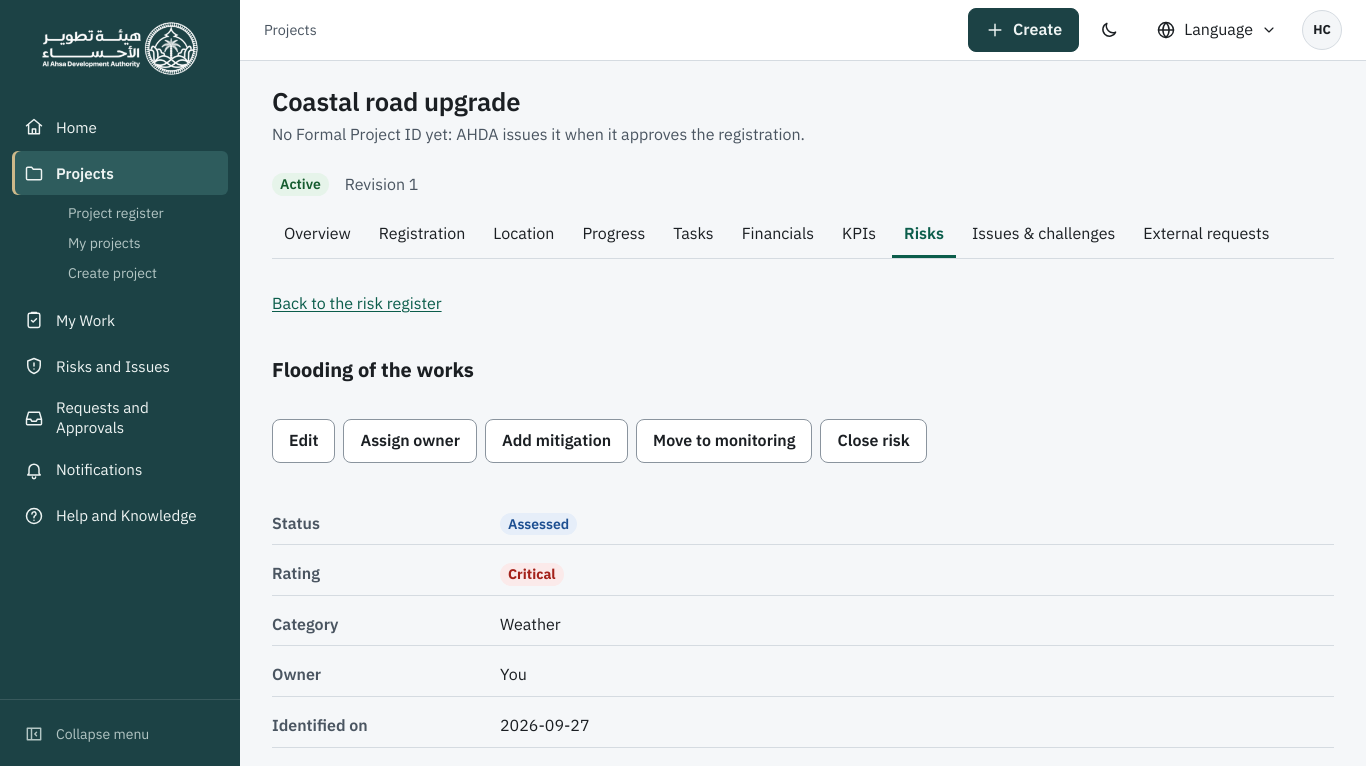
MOD-035 Close Risk (acceptance criterion 2) › a risk changed meanwhile (412) is read again, nothing saved
Click the button "Close risk" at (874, 441), box left=820, top=419, right=927, bottom=463
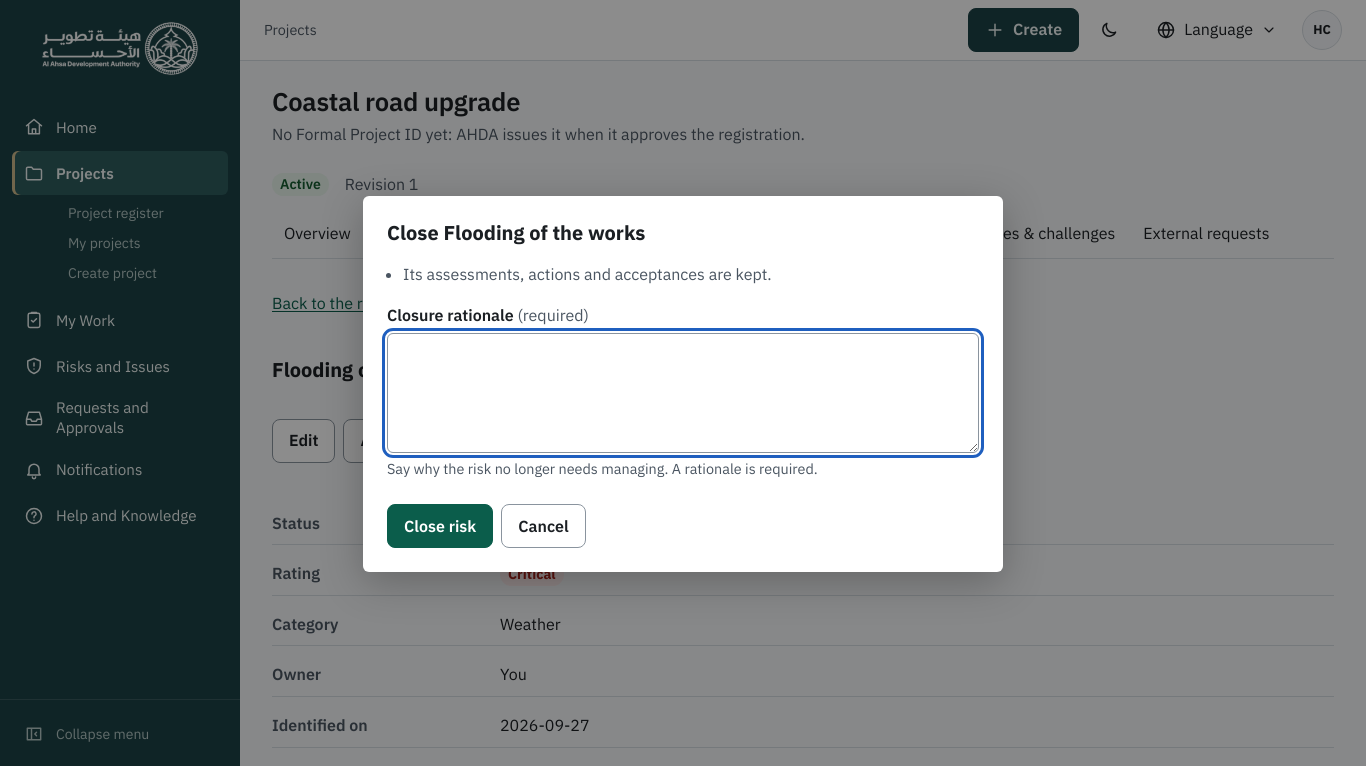
Type "Done" into the text box labelled "Closure rationale (required)" at (683, 393), box left=387, top=333, right=979, bottom=453
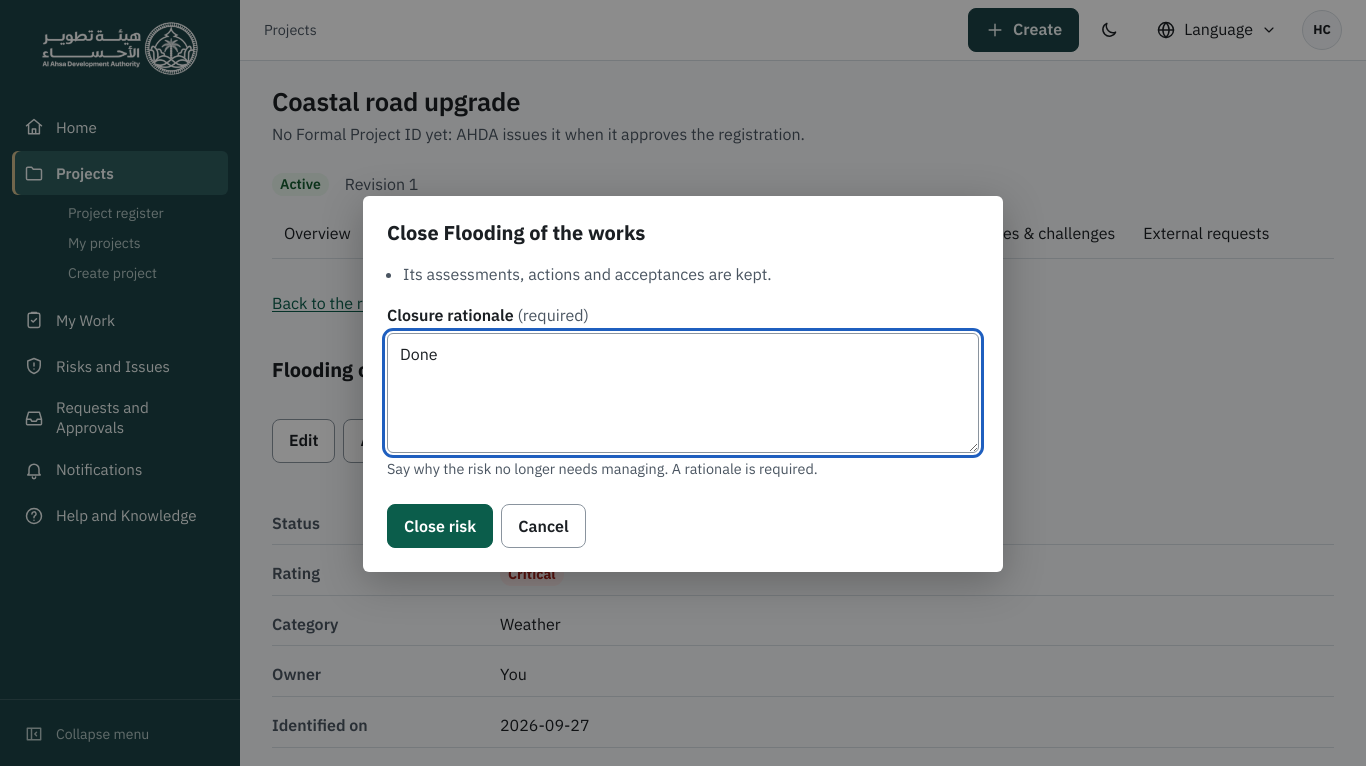
Click the button "Close risk" at (440, 526), box left=387, top=504, right=493, bottom=548
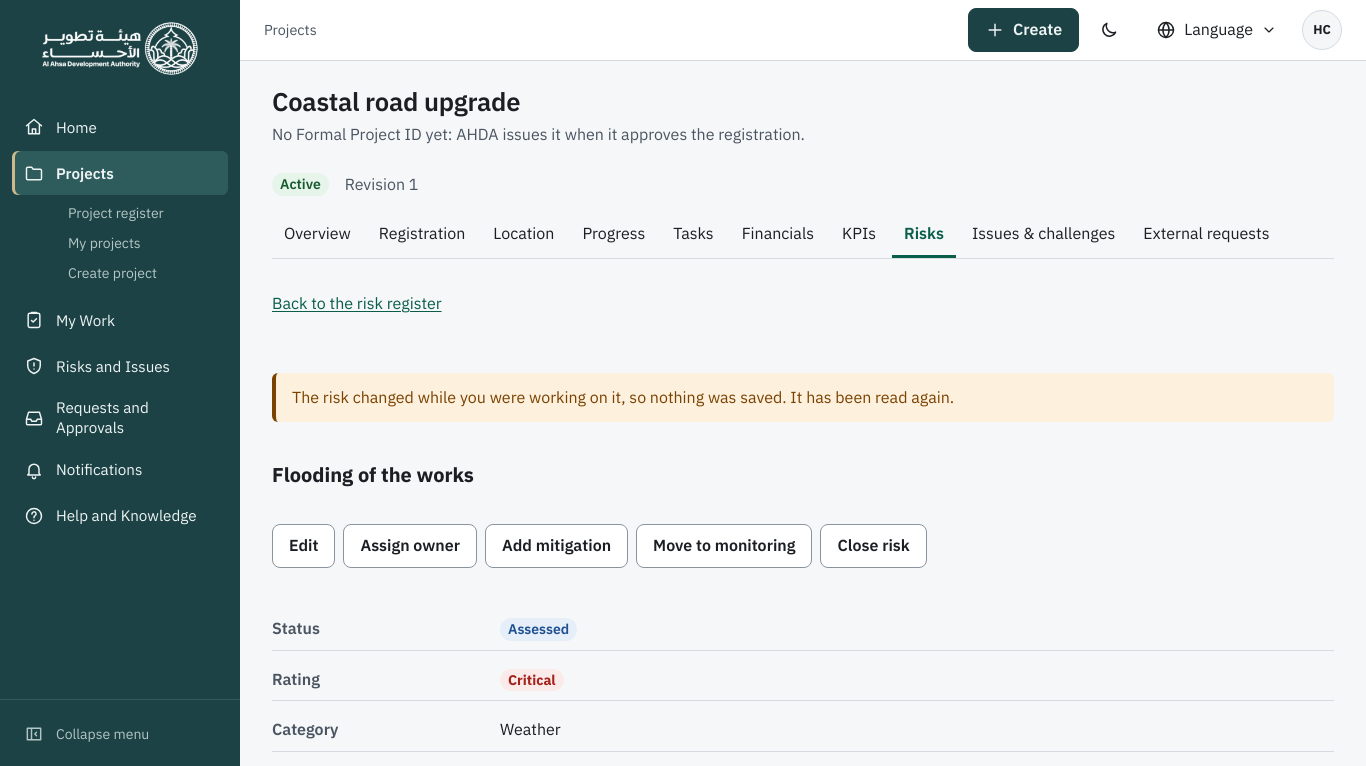
expect the text "The risk changed while you were working on it, so nothing was saved. It has been read again." is shown: met, box left=292, top=387, right=954, bottom=407
expect the dialog is gone: met
